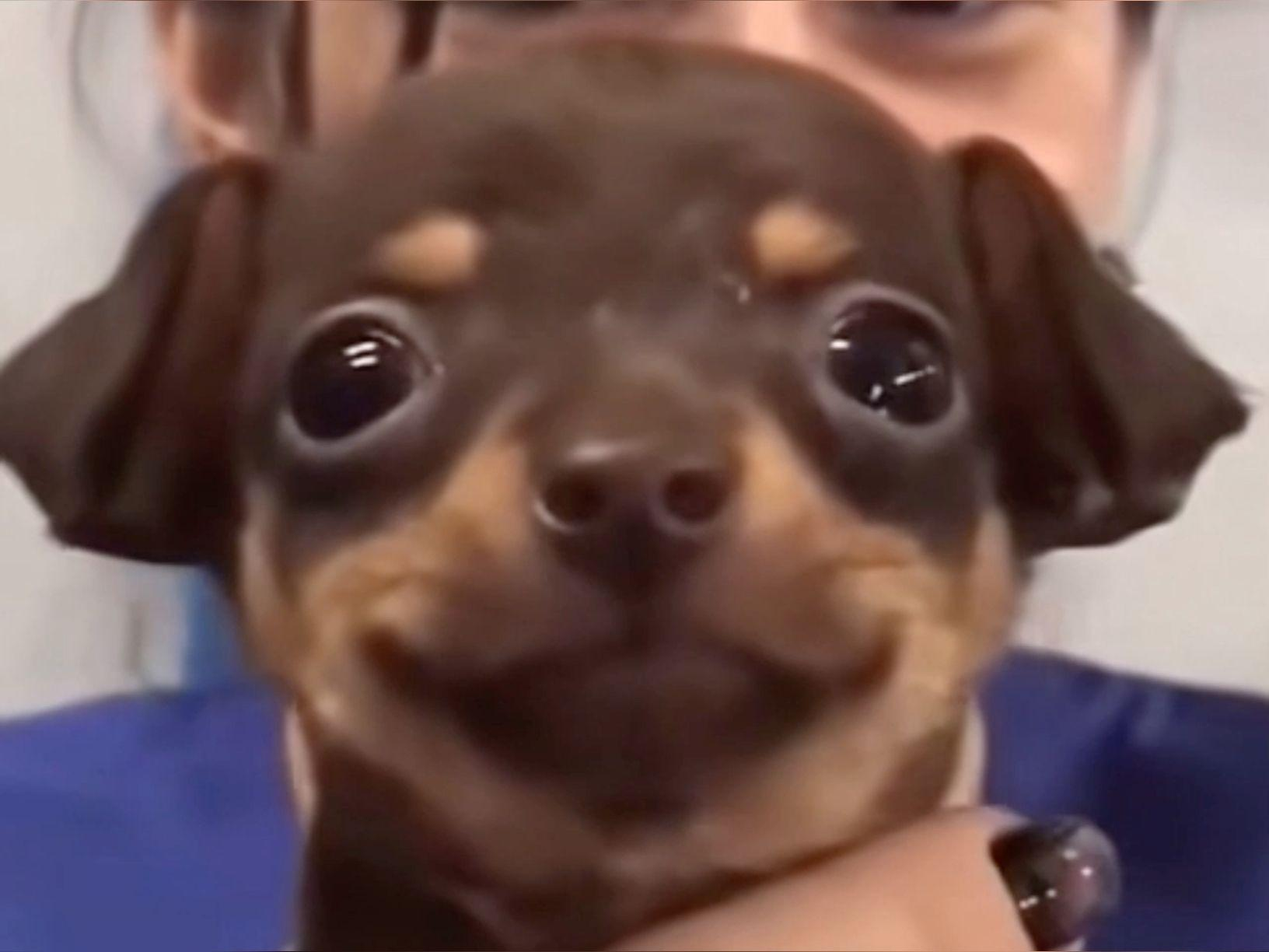puppy-dog: (0, 30, 1254, 952)
